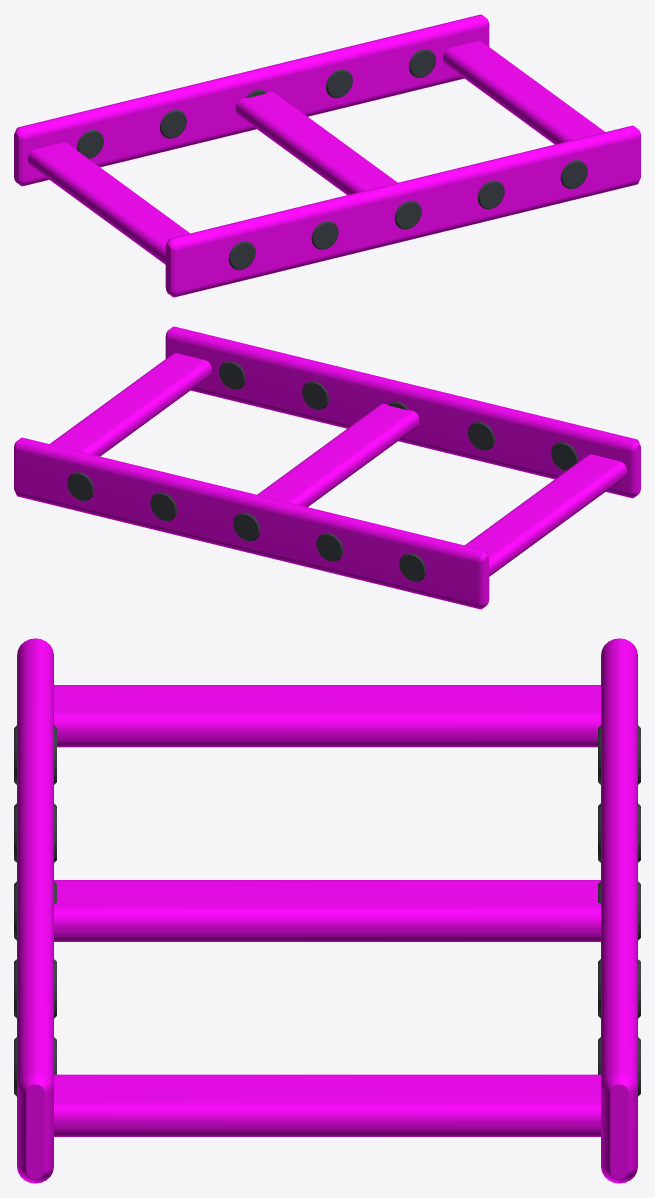
File: objet_chassis_leger.glb
3 renders of one model, top to bottom at view 1: azimuth 30°, elevation 25°; view 2: azimuth 150°, elevation 25°; view 3: azimuth 270°, elevation 25°, orthographic. The views are drawn at different scales.
Visible parts, largest first — view 1: chassis_teinte.008, chassis_teinte_sombre.004; view 2: chassis_teinte.008, chassis_teinte_sombre.004; view 3: chassis_teinte.008, chassis_teinte_sombre.004.
Boxes of the visible parts, x1,y1,x2,y2 form: chassis_teinte.008: (14, 14, 640, 297); chassis_teinte_sombre.004: (77, 49, 587, 269); chassis_teinte.008: (14, 326, 640, 609); chassis_teinte_sombre.004: (67, 361, 577, 581); chassis_teinte.008: (17, 638, 637, 1183); chassis_teinte_sombre.004: (14, 725, 640, 1096).
Bounding box in the file's own units: 0.34 × 0.04 × 0.204.
